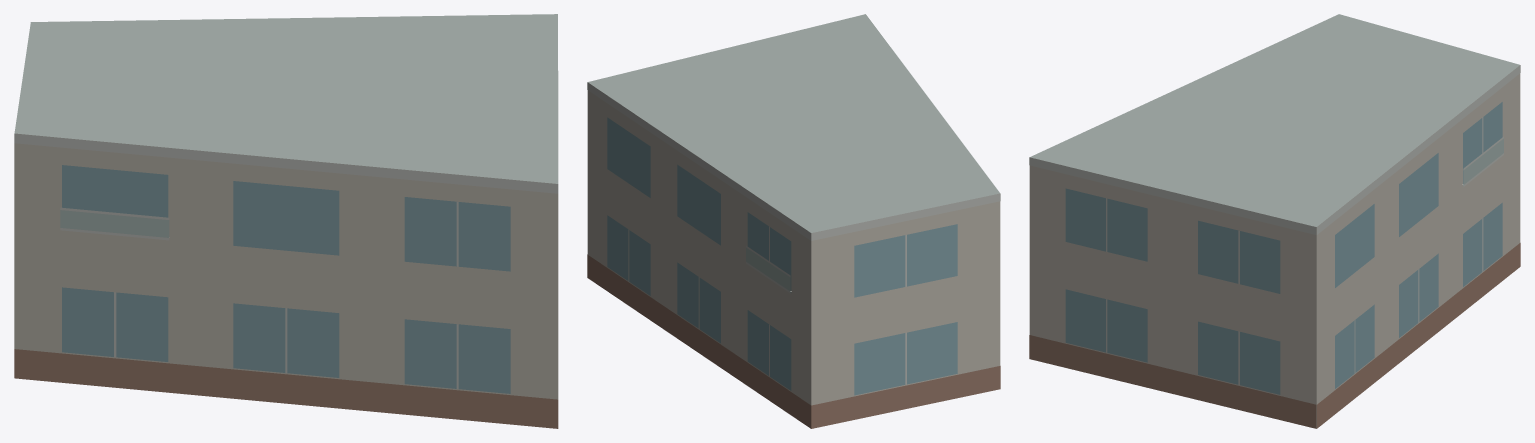
File: survey-upis-32803697.glb
The picture shows the model from 3 angles, left to right: view 1: azimuth 30°, elevation 25°; view 2: azimuth 150°, elevation 25°; view 3: azimuth 270°, elevation 25°; orthographic projection. The views are drawn at different scales.
Visible parts, largest first — view 1: survey-upis-32803697.tmp; view 2: survey-upis-32803697.tmp; view 3: survey-upis-32803697.tmp.
Part boxes in pixels (x1,y1,x2,y2): survey-upis-32803697.tmp: [14, 14, 558, 428]; survey-upis-32803697.tmp: [587, 14, 1000, 428]; survey-upis-32803697.tmp: [1029, 14, 1520, 428].
Size of the model in its own units: 13.83 by 6.1 by 13.46.
